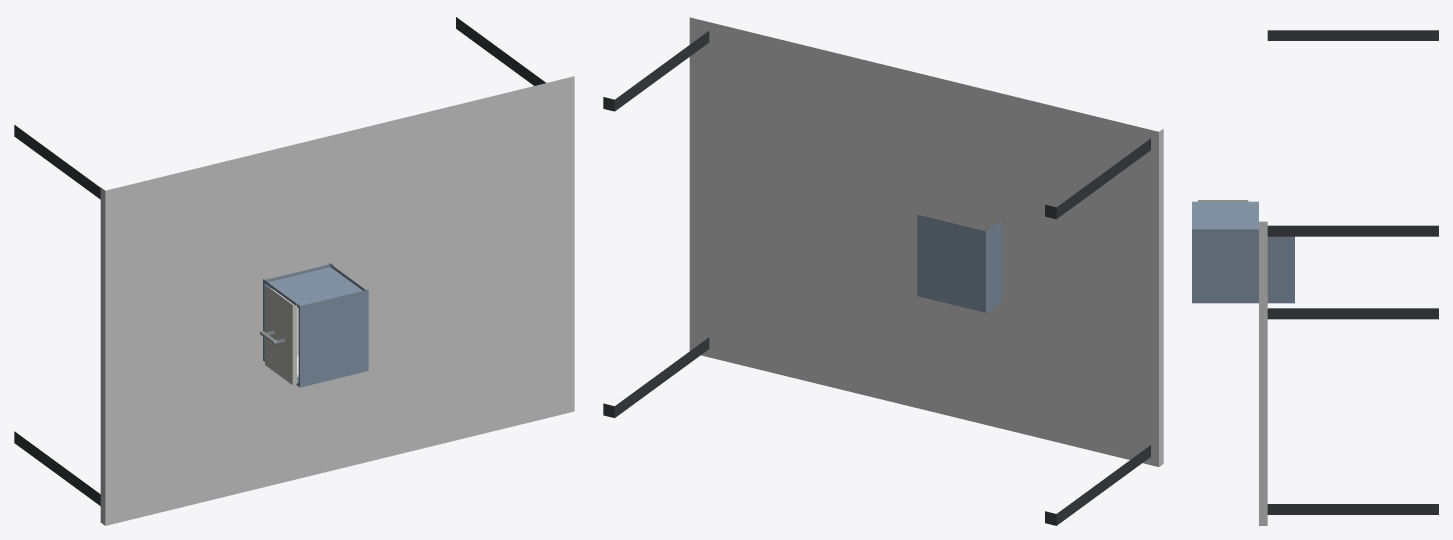
3 renders of one model, left to right at view 1: azimuth 30°, elevation 25°; view 2: azimuth 150°, elevation 25°; view 3: azimuth 270°, elevation 25°, orthographic. The views are drawn at different scales.
Visible parts, largest first — view 1: s0, s1, s2; view 2: s0, s1; view 3: s0, s1.
Part boxes in pixels (x1,y1,x2,y2): s0: [14, 17, 574, 525]; s1: [263, 263, 368, 387]; s2: [260, 286, 298, 384]; s0: [603, 17, 1163, 525]; s1: [917, 214, 1001, 312]; s0: [1259, 30, 1438, 525]; s1: [1192, 201, 1294, 303].
Size of the model in its own units: 2.05 by 1.4 by 1.03.
